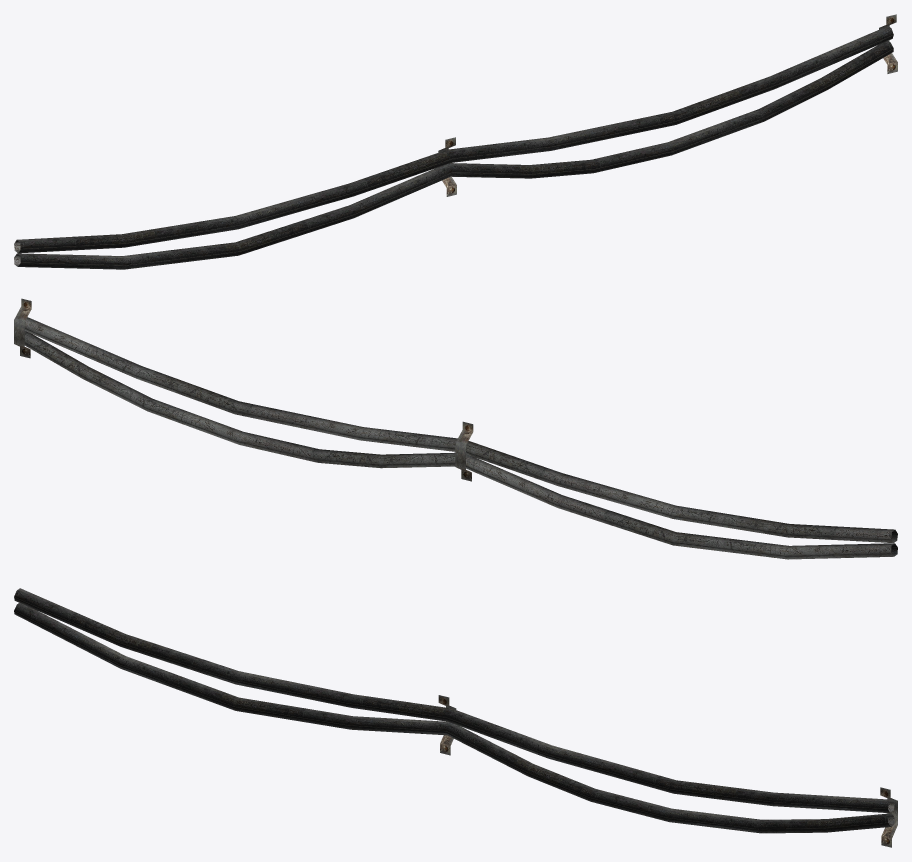
Rendered from Wiresll.fbx.
The picture shows the model from 3 angles, top to bottom: view 1: azimuth 30°, elevation 25°; view 2: azimuth 150°, elevation 25°; view 3: azimuth 330°, elevation 25°; orthographic projection.
Parts seen in each view (by area): view 1: mesh_0.921; view 2: mesh_0.921; view 3: mesh_0.921.
Part boxes in pixels (bbox=[...]): mesh_0.921: bbox=[14, 14, 897, 269]; mesh_0.921: bbox=[14, 298, 897, 559]; mesh_0.921: bbox=[14, 588, 897, 847].
Size of the model in its own units: 2.95 by 0.2828 by 0.0416.
